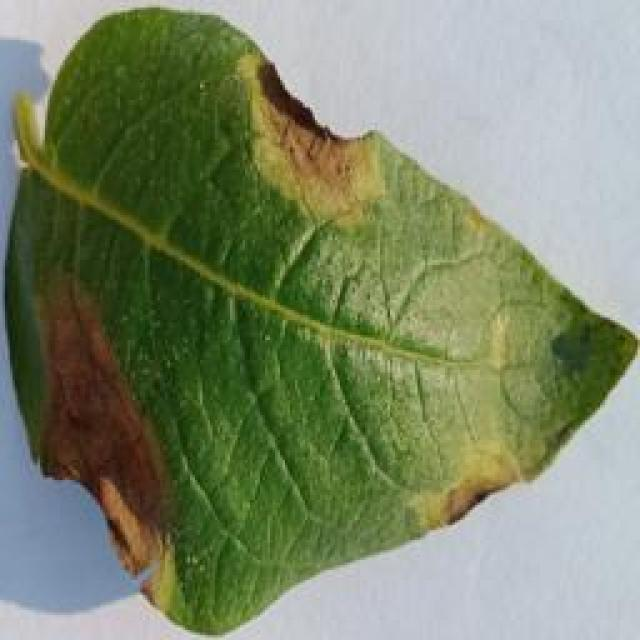Potato_Late_Blight: (8, 9, 624, 633)
